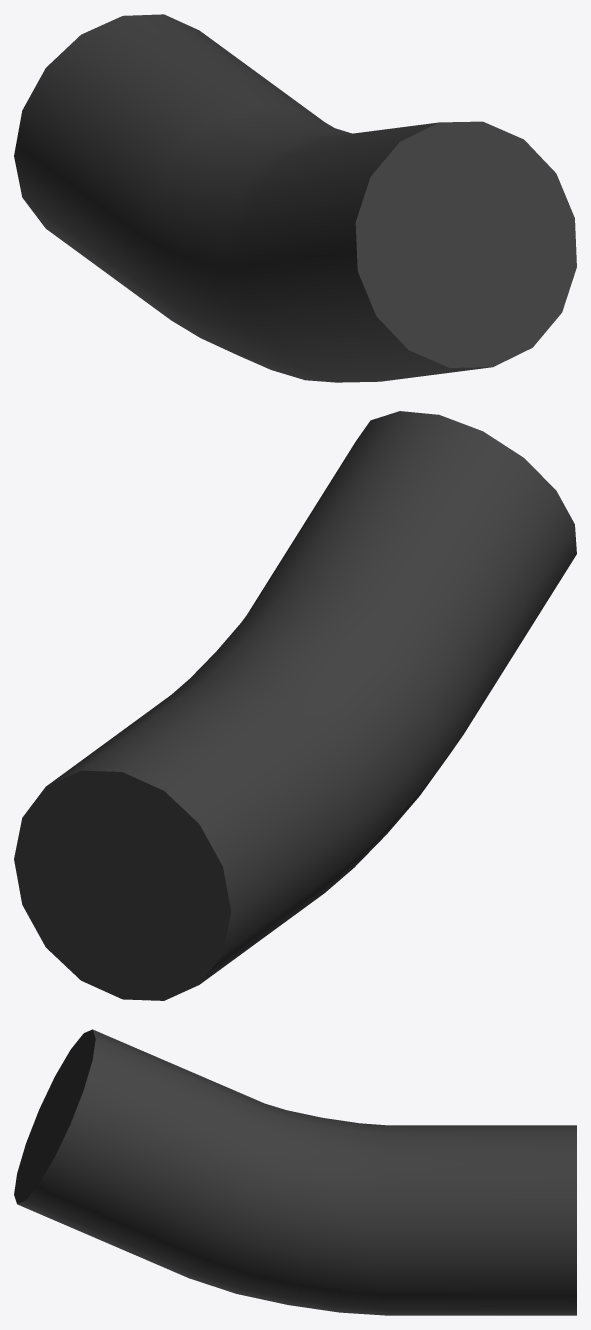
File: 180DPipe.fbx
The picture shows the model from 3 angles, top to bottom: view 1: azimuth 30°, elevation 25°; view 2: azimuth 150°, elevation 25°; view 3: azimuth 270°, elevation 25°; orthographic projection. The views are drawn at different scales.
Parts seen in each view (by area): view 1: Obtuse Pipe; view 2: Obtuse Pipe; view 3: Obtuse Pipe.
Boxes of the visible parts, x1,y1,x2,y2 form: Obtuse Pipe: (14, 14, 576, 382); Obtuse Pipe: (14, 411, 576, 1000); Obtuse Pipe: (14, 1029, 576, 1315).
Size of the model in its own units: 200 by 310 by 591.
